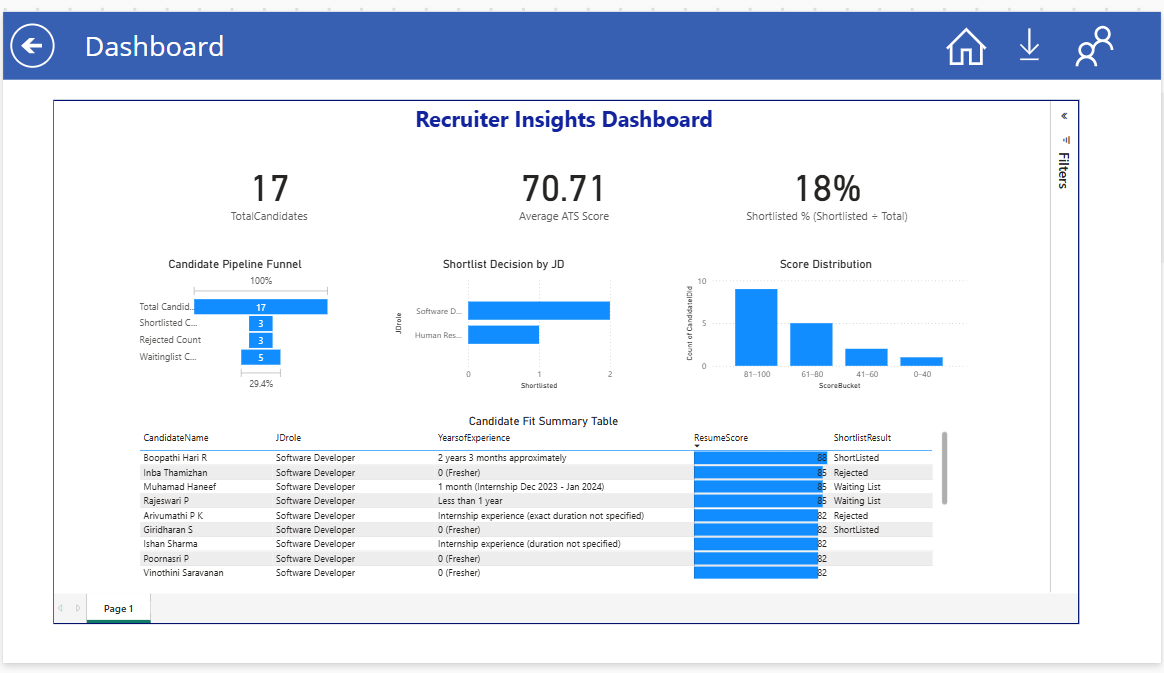

What the dashboard file says about the page in this screenshot:
{"tool":"powerbi","page":{"name":"Page 1","canvas":[1280,720],"ordinal":0},"visuals":[{"type":"card","fields":{"Values":["ResumeAnalysis.TotalCandidates"]},"box":[110.5,74.2,233.2,113.6],"z":0},{"type":"card","fields":{"Values":["ResumeAnalysis.Count of ResumeScore average per Id"]},"box":[546.6,74.2,222.6,113.6],"z":1000},{"type":"card","fields":{"Values":["ResumeAnalysis.Shortlist %"]},"box":[911.6,74.2,260.4,113.6],"z":2000},{"type":"funnel","title":"Candidate Pipeline Funnel","fields":{"Y":["CountNonNull(ResumeAnalysis.CandidateIDId)","ResumeAnalysis.Shortlisted","ResumeAnalysis.Rejected","ResumeAnalysis.Waitinglist"]},"box":[32.4,229.9,289.8,197.5],"z":3000},{"type":"barChart","title":"Shortlist Decision by JD","fields":{"Y":["ResumeAnalysis.Shortlisted"],"Category":["ResumeAnalysis.JDrole"]},"box":[404.8,229.9,328.7,197.5],"z":4000},{"type":"tableEx","title":"Candidate Fit Summary Table","fields":{"Values":["ResumeAnalysis.CandidateName","ResumeAnalysis.JDrole","CandidateProfiles.YearsofExperience","ResumeAnalysis.ResumeScore","ResumeAnalysis.ShortlistResult"]},"box":[31.7,460,1191.7,245],"z":5000},{"type":"textbox","box":[121.7,0,1073.3,55],"z":6000},{"type":"columnChart","title":"Score Distribution","fields":{"Category":["ResumeAnalysis.ScoreBucket"],"Y":["CountNonNull(ResumeAnalysis.CandidateIDId)"]},"box":[830.7,229.9,421,197.5],"z":7000}]}

Visuals, with their boxes on the page's 1280x720 design canvas (x1, y1, x2, y2). These are canvas units, not pixel positions in the 1164x673 screenshot, which may show the page scaled, cropped or inside an application window:
card - ResumeAnalysis.TotalCandidates: BBox(110, 74, 344, 188)
card - ResumeAnalysis.Count of ResumeScore average per Id: BBox(547, 74, 769, 188)
card - ResumeAnalysis.Shortlist %: BBox(912, 74, 1172, 188)
"Candidate Pipeline Funnel" funnel: BBox(32, 230, 322, 427)
"Shortlist Decision by JD" barChart: BBox(405, 230, 734, 427)
"Candidate Fit Summary Table" tableEx: BBox(32, 460, 1223, 705)
textbox: BBox(122, 0, 1195, 55)
"Score Distribution" columnChart: BBox(831, 230, 1252, 427)
